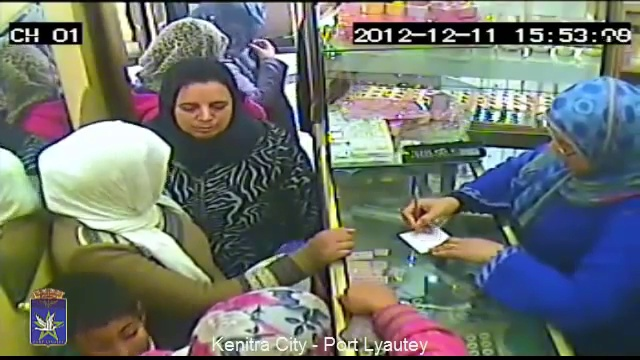face: (75, 311, 150, 356), (175, 88, 229, 134)
